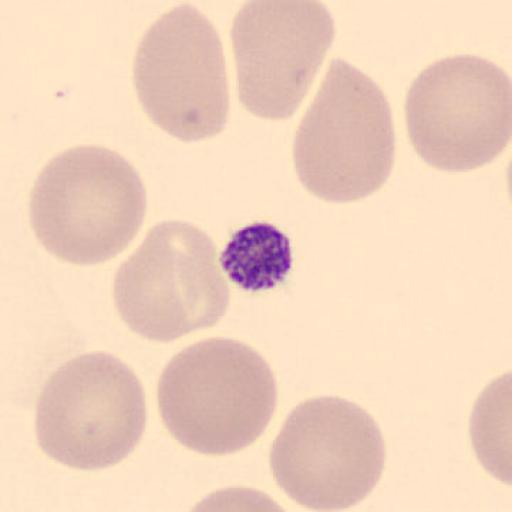Platelet: (217, 218, 296, 294)
RBC: (155, 334, 280, 460), (292, 61, 398, 206), (112, 217, 231, 346), (28, 142, 148, 268), (267, 393, 388, 512), (33, 348, 148, 472), (130, 2, 230, 143), (403, 52, 511, 176), (229, 0, 337, 123), (468, 369, 512, 489), (179, 484, 297, 512)
